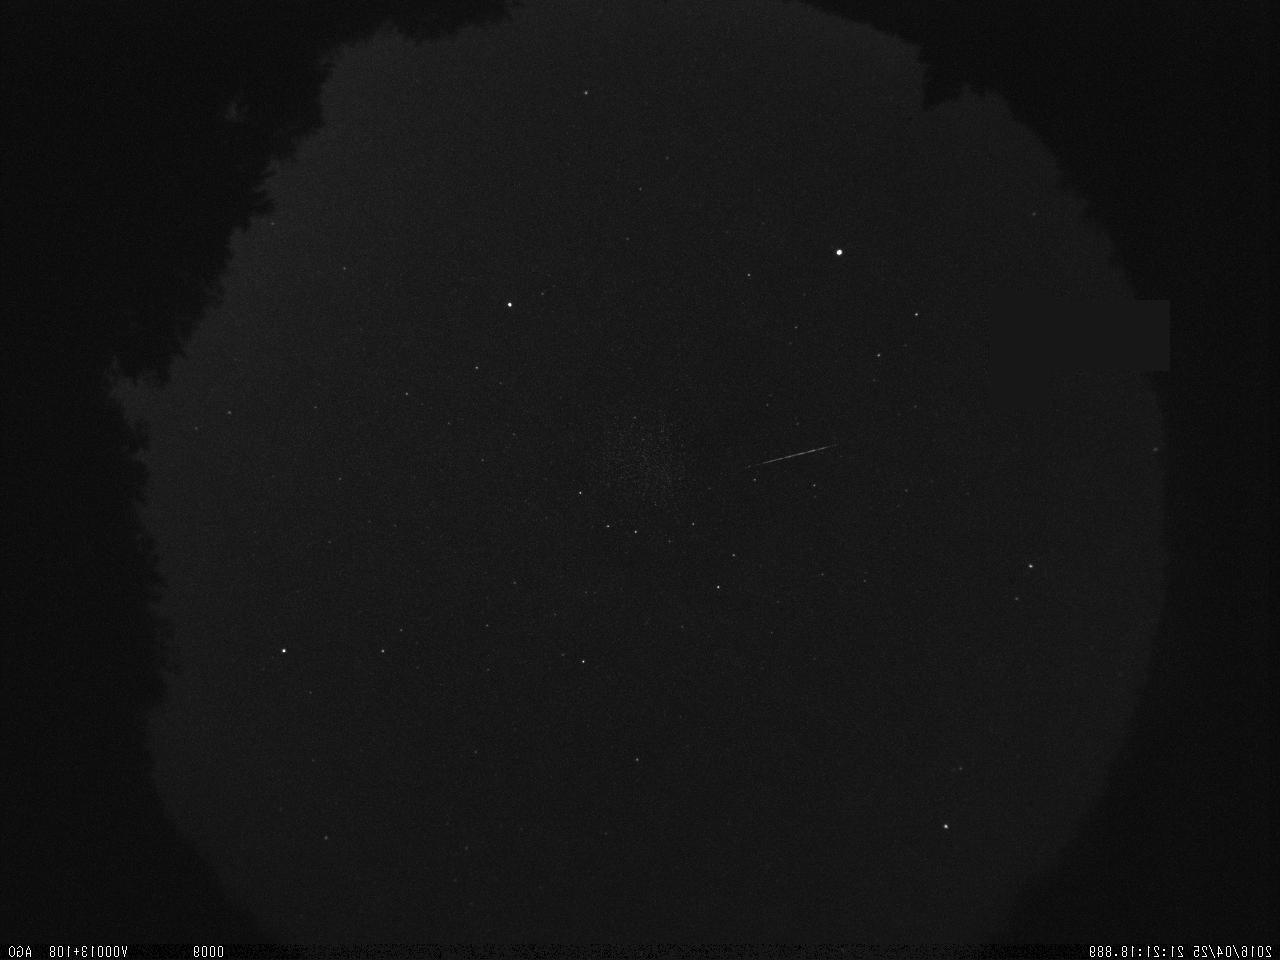meteor: (726, 430, 849, 485)
